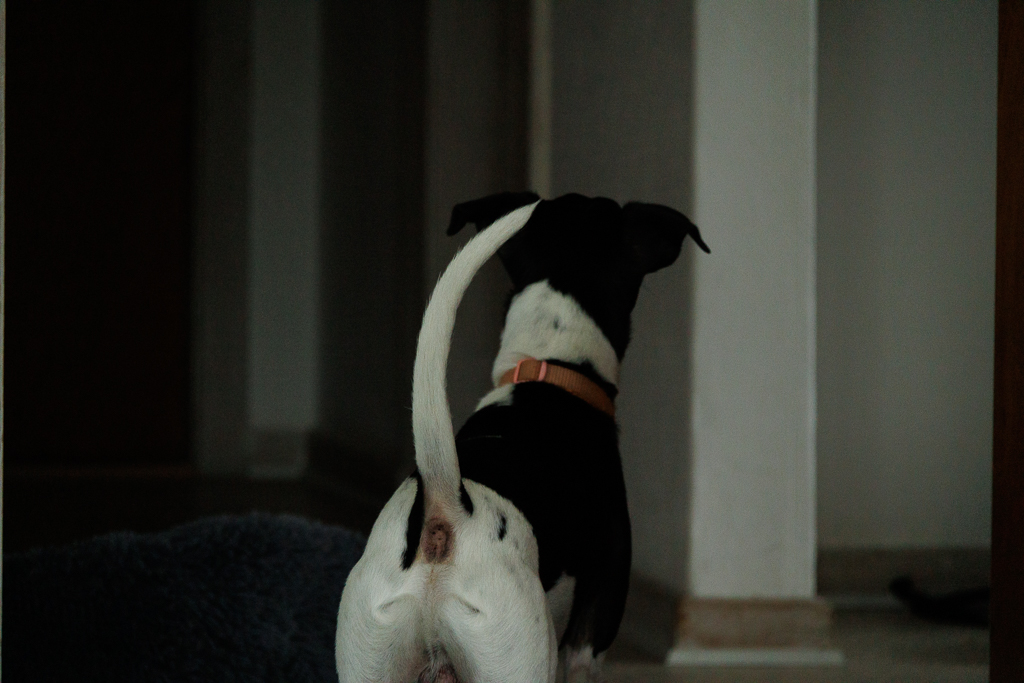Dog: (326, 172, 722, 683)
